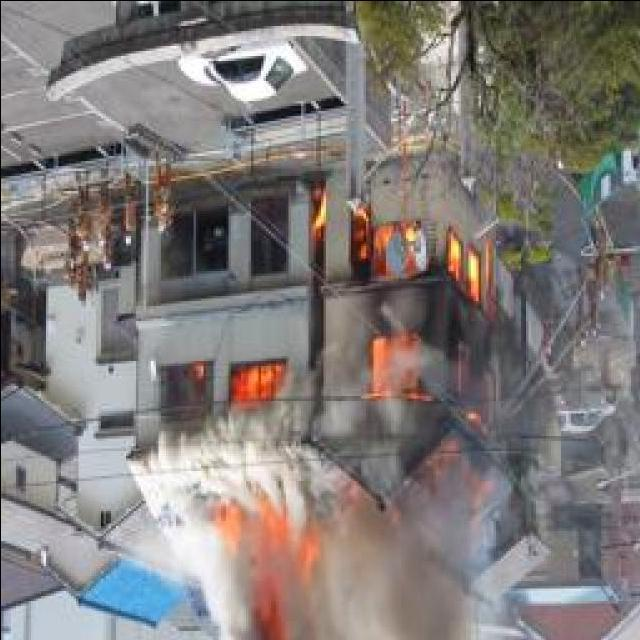Fire: (308, 184, 510, 456), (207, 502, 316, 630), (188, 358, 277, 410)
